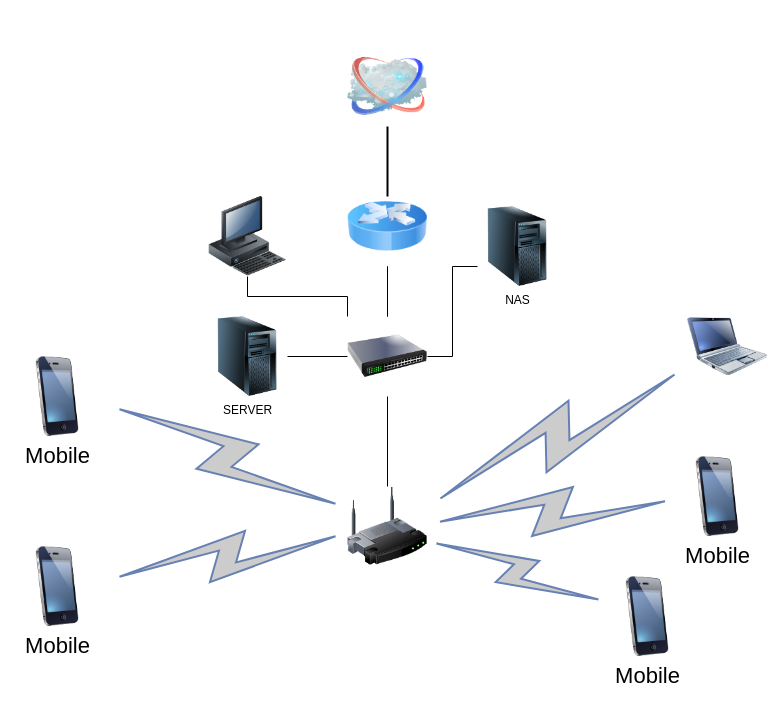
Some shapes in this 784 by 706 pixel diagram are drawn without their labels. Each missing label, with the centre of its shape:
Internet: (387,86)
Laptop: (727,346)
PC: (247,236)
